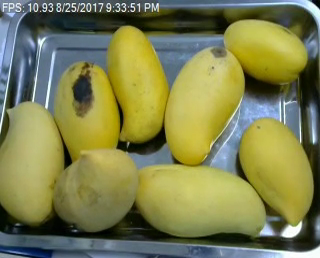Mango: (164, 46, 245, 165), (135, 164, 265, 237), (239, 117, 314, 224), (0, 101, 64, 225), (105, 25, 170, 143), (54, 149, 138, 232), (55, 61, 120, 165), (222, 19, 308, 83)
